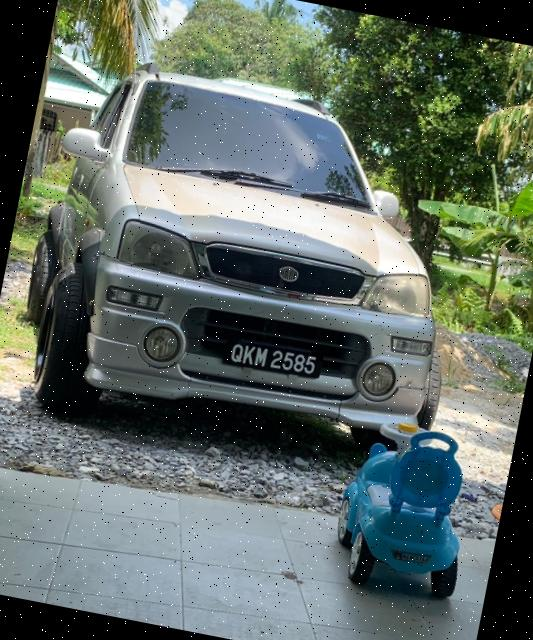License_Plate: (225, 335, 326, 382)
car: (6, 47, 508, 482)
